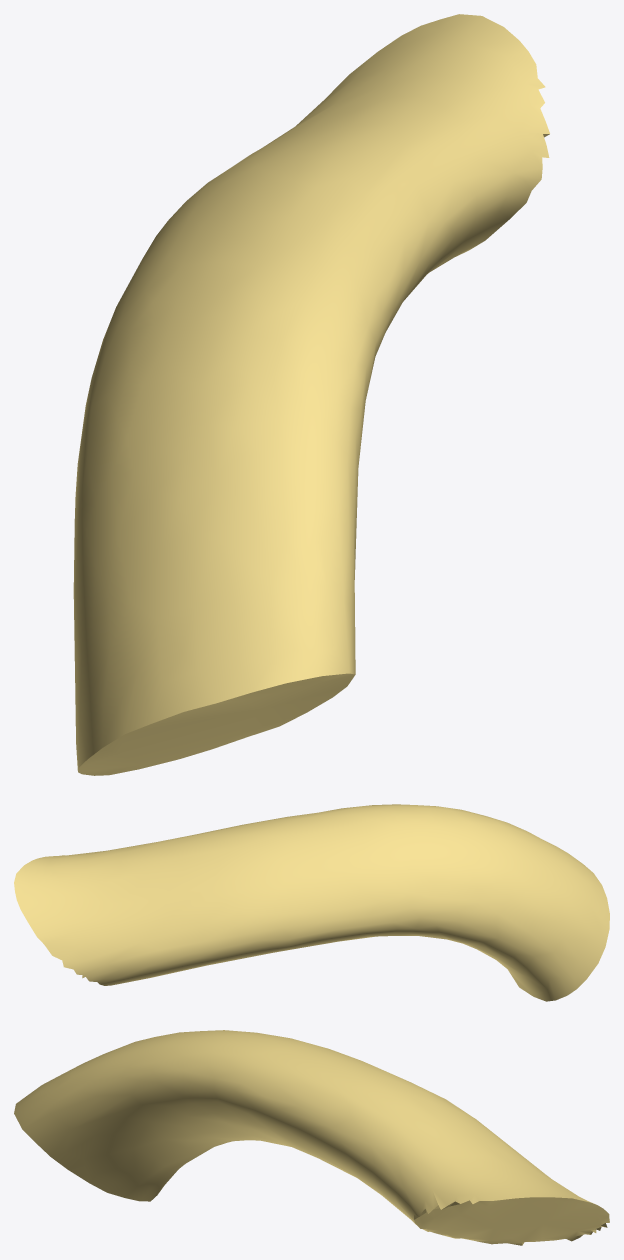
The model's file is fma73827_mm2480m.glb.
3 views of the same model, one above another, from view 1: azimuth 30°, elevation 25°; view 2: azimuth 150°, elevation 25°; view 3: azimuth 270°, elevation 25° (orthographic). The views are drawn at different scales.
Parts seen in each view (by area): view 1: FMA73827_MM2480M; view 2: FMA73827_MM2480M; view 3: FMA73827_MM2480M.
Boxes of the visible parts, x1,y1,x2,y2 form: FMA73827_MM2480M: (73,14,549,775); FMA73827_MM2480M: (14,804,609,1001); FMA73827_MM2480M: (14,1030,609,1245).
Bounding box in the file's own units: 0.00814 × 0.00378 × 0.00932.
